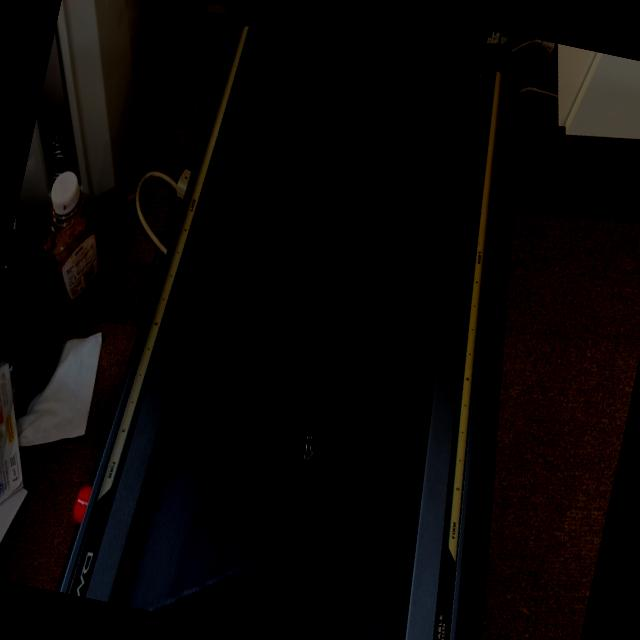Trash: (294, 418, 320, 464)
